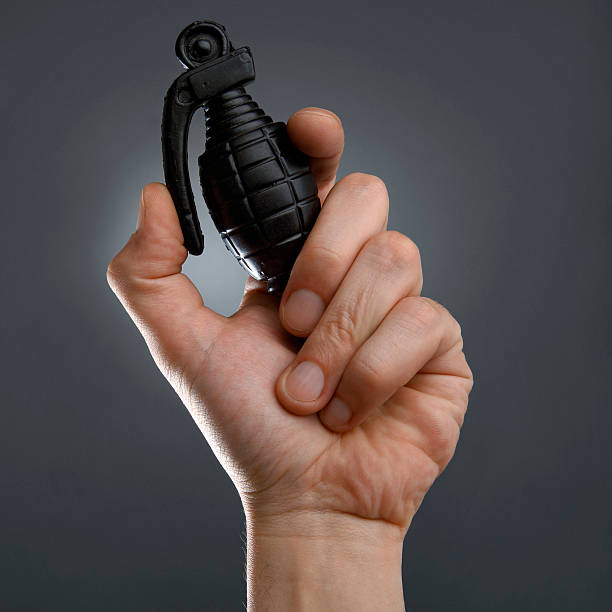e1: (155, 22, 331, 288)
